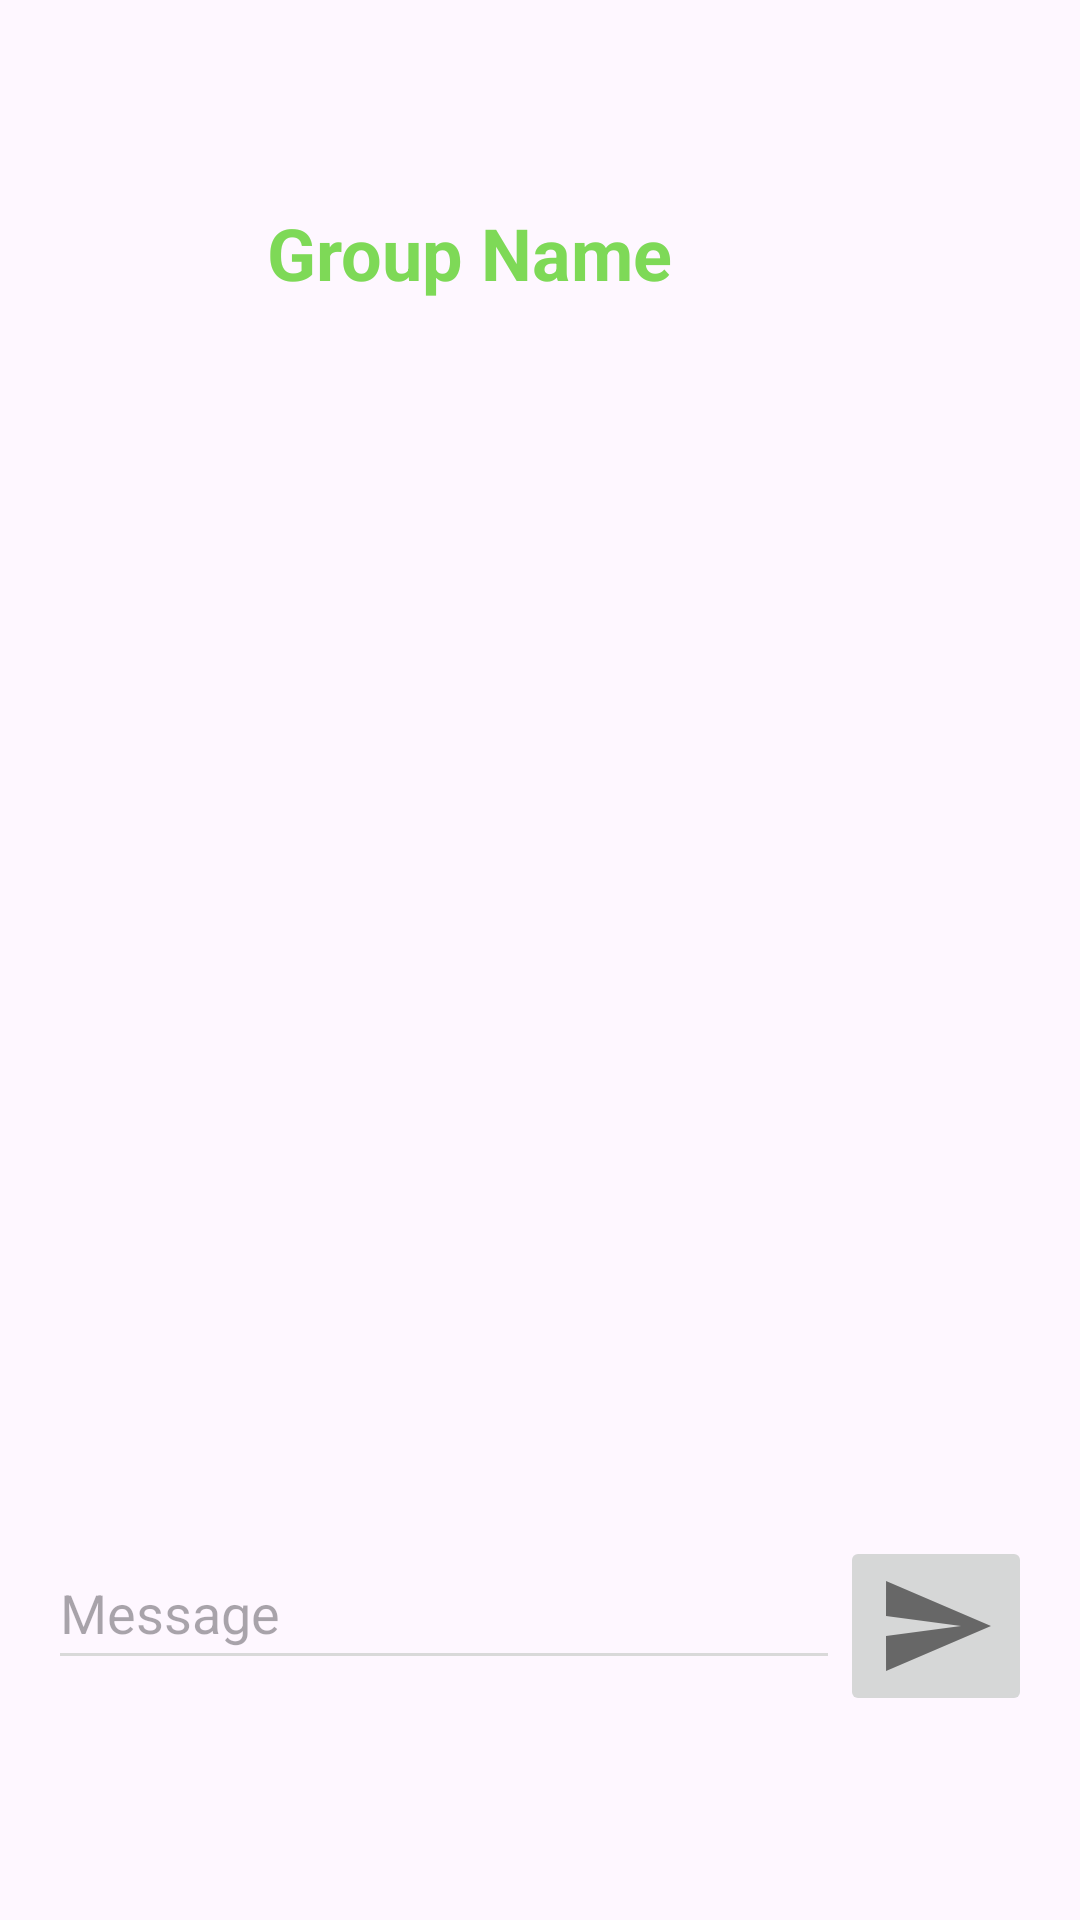

Point at icon controls on the screen. Image size 1080px x 1920px, points as point (x, y).
Send: point (936, 1626)
